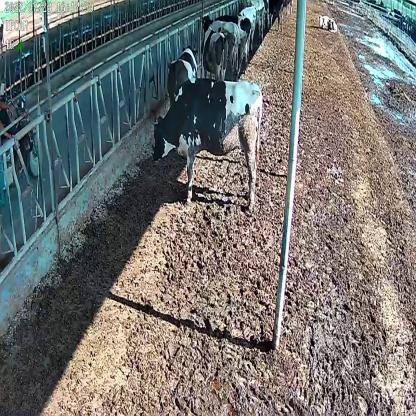cow: (152, 78, 263, 217), (167, 44, 199, 103), (202, 16, 229, 79), (318, 15, 339, 35)
